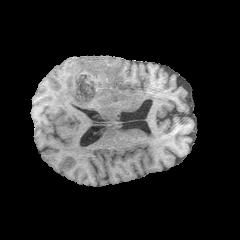glioma: (56, 56, 147, 109)
